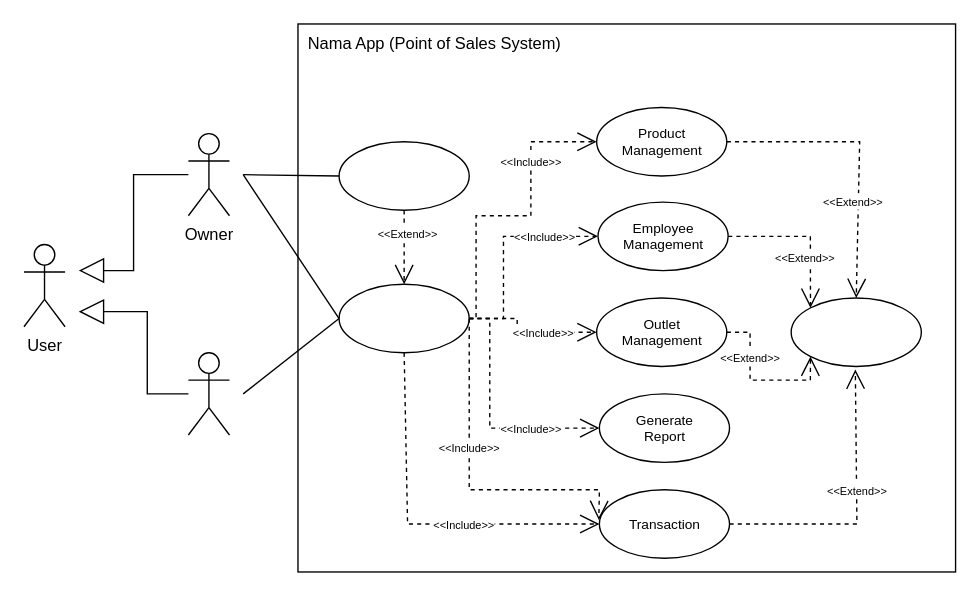
Some shapes in this 980 by 596 pixel diagram are drawn without their labels. The centre of each missing label's shape, as x and y in pixels:
"CRUD" belongs at (855,331).
"Employee" belongs at (208,393).
"Login" belongs at (403,318).
"Register" belongs at (403,175).
